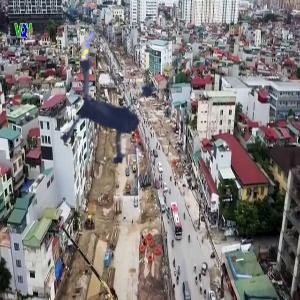drone: (40, 26, 198, 184)
